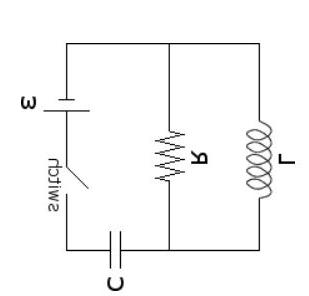inductor: (238, 104, 276, 203)
